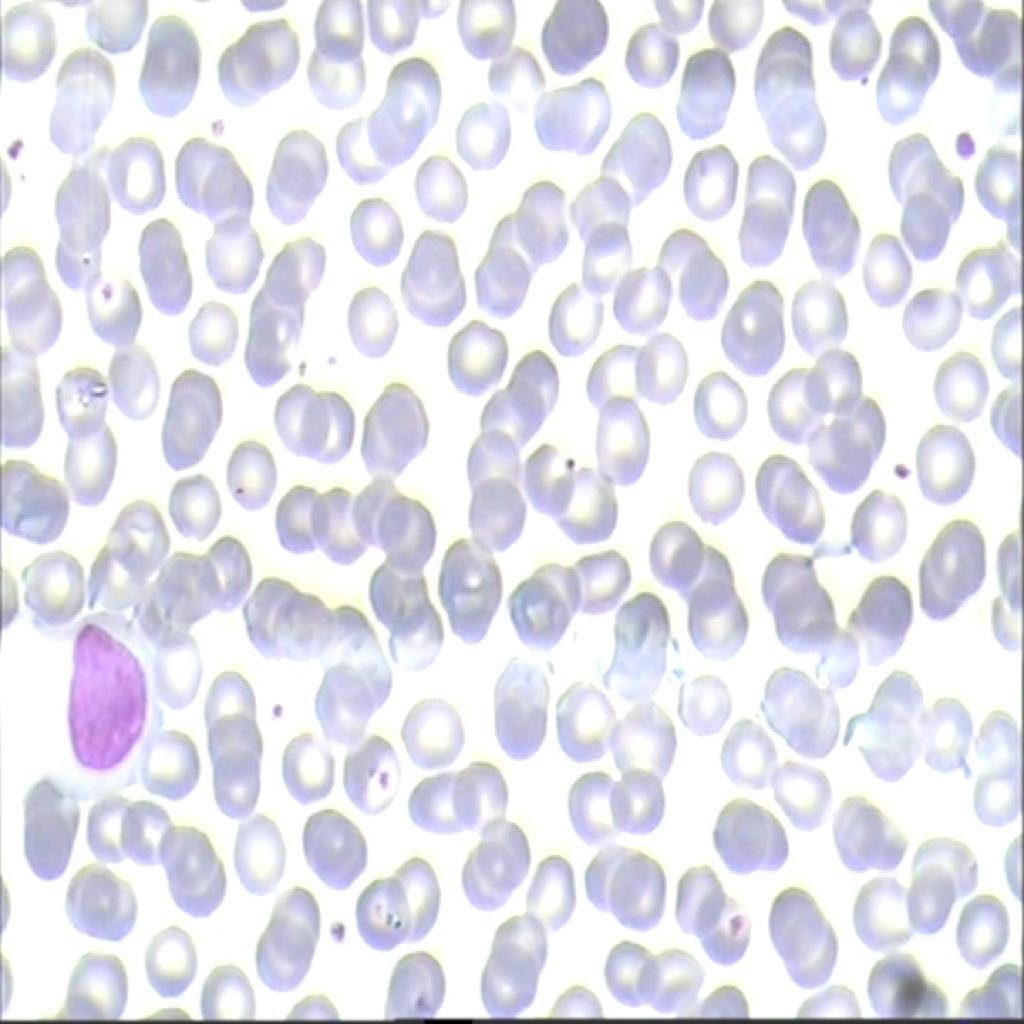Monosit: (43, 606, 166, 782)
Platelet: (952, 114, 986, 167), (320, 907, 350, 960), (555, 437, 586, 482), (888, 452, 918, 496), (204, 103, 228, 149), (268, 688, 290, 736), (3, 135, 34, 167), (229, 469, 250, 503), (855, 60, 873, 98)
